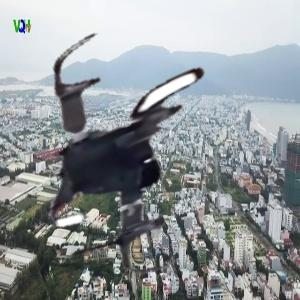drone: (8, 21, 271, 284)
